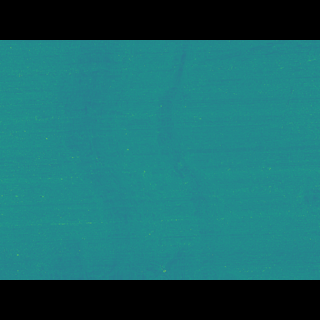Loch: (42, 67, 245, 250)
